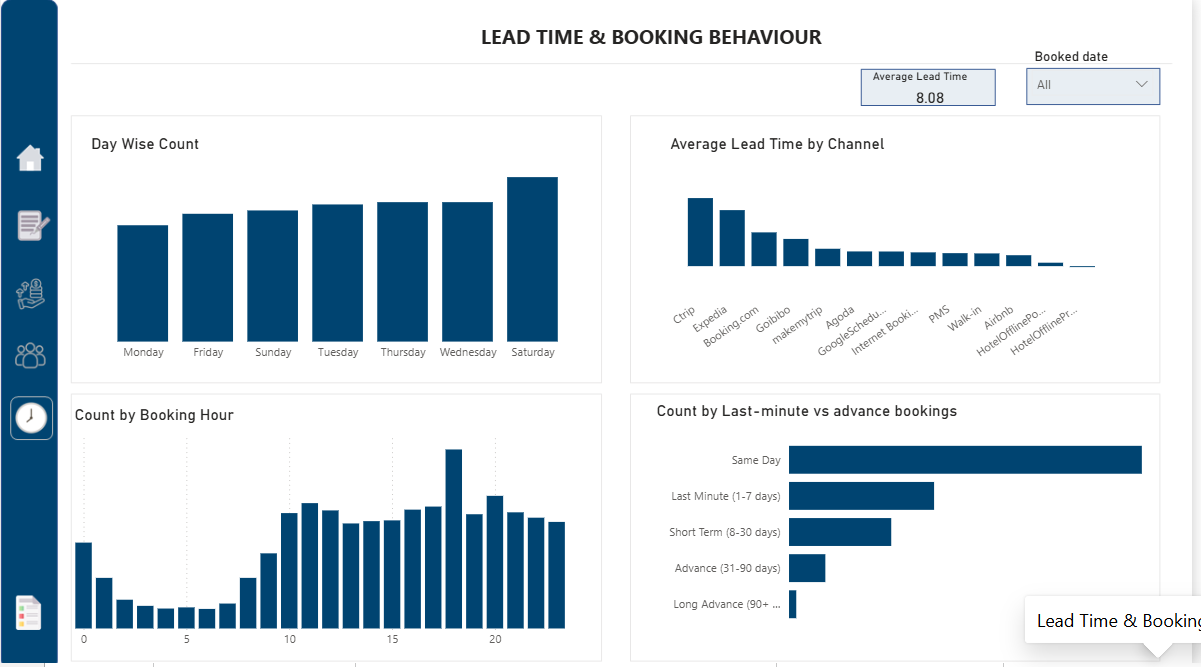

What the dashboard file says about the page in this screenshot:
{"tool":"powerbi","page":{"name":"Lead Time & Booking Behavior","canvas":[1280,720],"ordinal":4},"visuals":[{"type":"card","title":"Average Lead Time","fields":{"Values":["Raw data.Average Lead Time"]},"box":[931.8,75.9,133.3,36],"z":0},{"type":"clusteredColumnChart","title":"Count  by Booking Hour","fields":{"Category":["Raw data.Booking Hour"],"Y":["CountNonNull(Raw data.Channel booking ID)"]},"box":[73.9,436.7,559.3,269.4],"z":1000},{"type":"clusteredColumnChart","title":"Day Wise Count","fields":{"Y":["CountNonNull(Raw data.Channel booking ID)"],"Category":["Raw data.Booking Day Name"]},"box":[92.4,145.9,540.8,252.9],"z":2000},{"type":"slicer","fields":{"Values":["Raw data.Booked date"]},"box":[1098.1,47.7,150.8,74.9],"z":3000},{"type":"barChart","title":"Count by Last-minute vs advance bookings","fields":{"Category":["Raw data.Last-minute vs advance bookings"],"Y":["CountNonNull(Raw data.Channel booking ID)"]},"box":[699.3,431.9,535,254.8],"z":4000},{"type":"columnChart","fields":{"Y":["Raw data.Average Lead Time"],"Category":["Raw data.Channel"]},"box":[714.9,145.9,480.5,252.9],"z":5000},{"type":"actionButton","box":[11.7,222.7,41.8,39.9],"z":7000},{"type":"actionButton","box":[11.7,292.8,41.8,39.9],"z":8000},{"type":"actionButton","box":[11.7,358.9,41.8,39.9],"z":9000},{"type":"actionButton","box":[12.6,154.7,40.9,39.9],"z":10000},{"type":"actionButton","box":[12.6,637.1,41.8,39.9],"z":11000},{"type":"actionButton","box":[12.6,222.7,41.8,39.9],"z":13000},{"type":"actionButton","box":[12.6,292.8,41.8,39.9],"z":14000},{"type":"actionButton","box":[11.7,366.7,41.8,39.9],"z":15000},{"type":"actionButton","box":[11.7,154.7,51.6,39.9],"z":16000},{"type":"actionButton","box":[12.6,637.1,41.8,39.9],"z":17000},{"type":"textbox","box":[354,19.5,688.6,39.9],"z":18000}]}

Visuals, with their boxes on the page's 1280x720 design canvas (x1, y1, x2, y2). These are canvas units, not pixel positions in the 1201x667 screenshot, which may show the page scaled, cropped or inside an application window:
"Average Lead Time" card: l=932, t=76, r=1065, b=112
"Count  by Booking Hour" clusteredColumnChart: l=74, t=437, r=633, b=706
"Day Wise Count" clusteredColumnChart: l=92, t=146, r=633, b=399
slicer - Raw data.Booked date: l=1098, t=48, r=1249, b=123
"Count by Last-minute vs advance bookings" barChart: l=699, t=432, r=1234, b=687
columnChart - Raw data.Average Lead Time x Raw data.Channel: l=715, t=146, r=1195, b=399
actionButton: l=12, t=223, r=54, b=263
actionButton: l=12, t=293, r=54, b=333
actionButton: l=12, t=359, r=54, b=399
actionButton: l=13, t=155, r=54, b=195
actionButton: l=13, t=637, r=54, b=677
actionButton: l=13, t=223, r=54, b=263
actionButton: l=13, t=293, r=54, b=333
actionButton: l=12, t=367, r=54, b=407
actionButton: l=12, t=155, r=63, b=195
actionButton: l=13, t=637, r=54, b=677
textbox: l=354, t=20, r=1043, b=59
